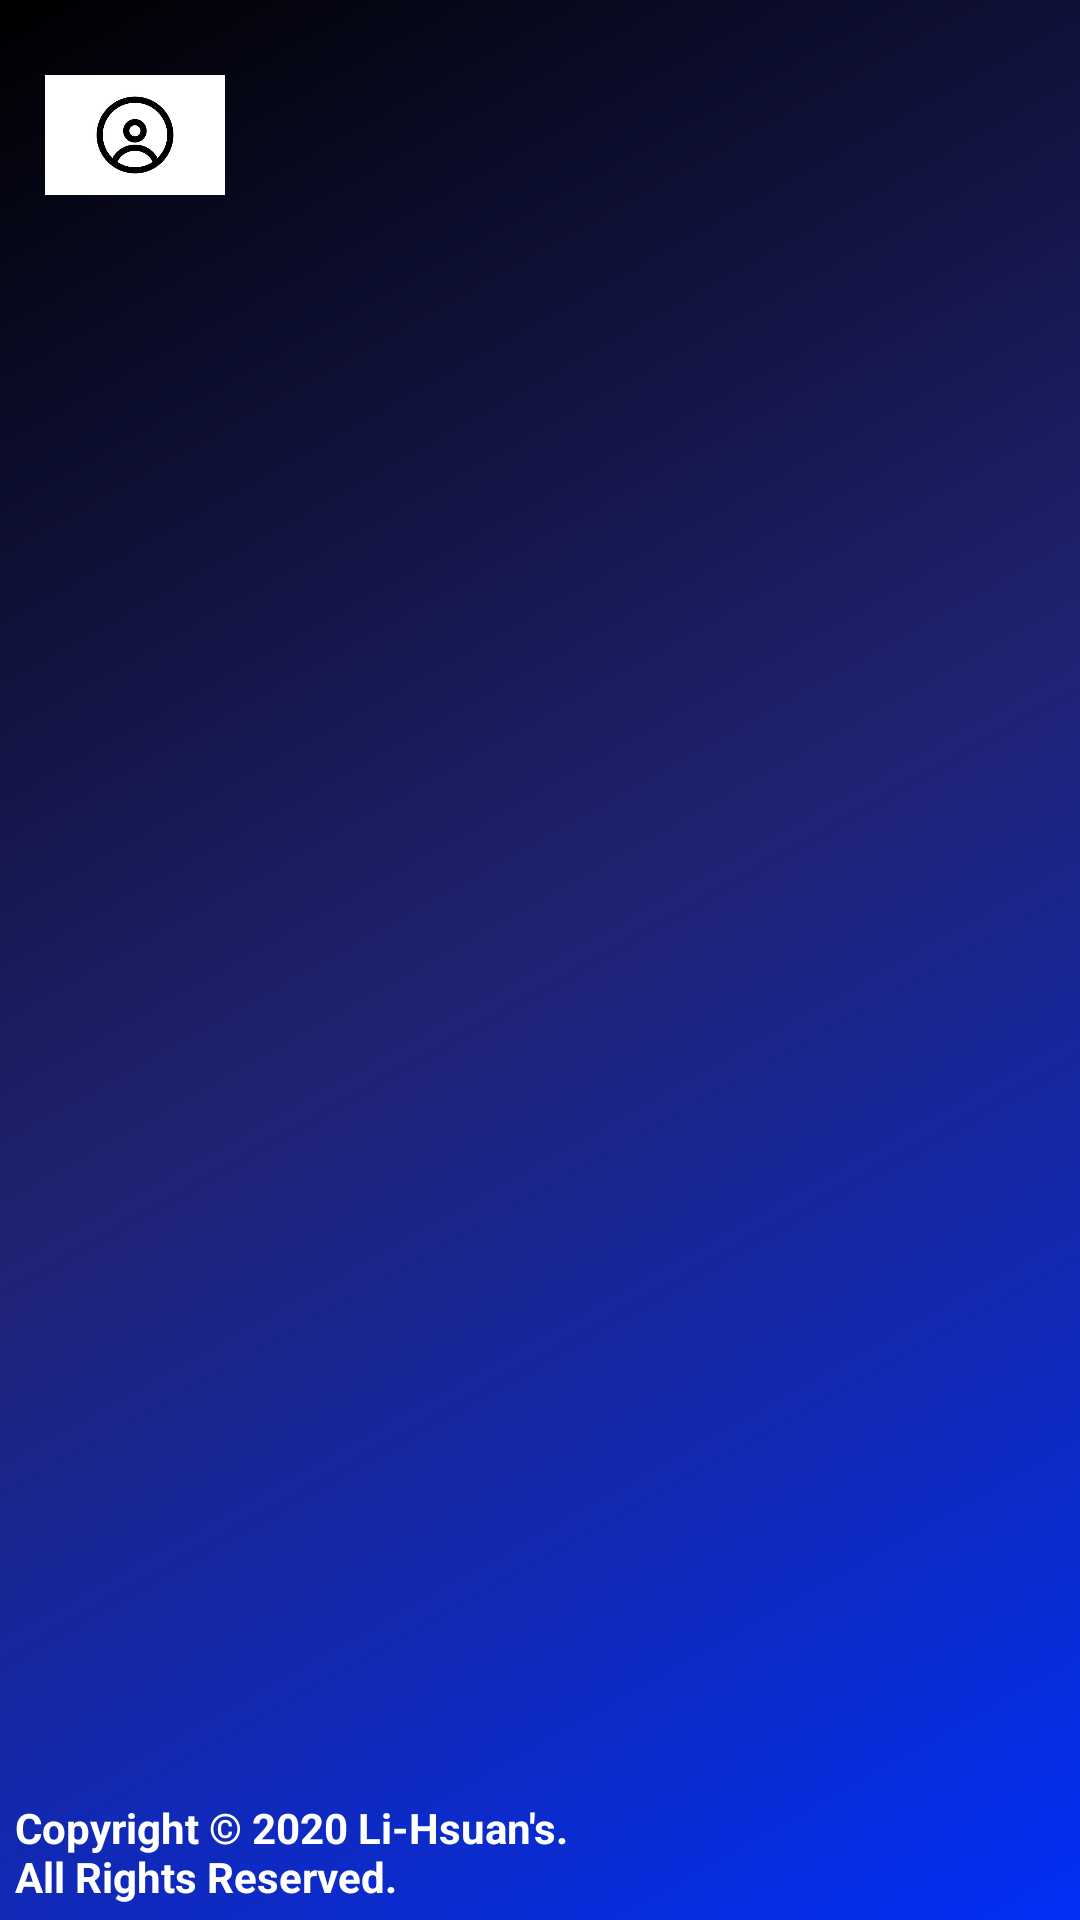

Icons on this 1080×1920 Android screen, each with its box as [x1, y1, x2, y2]:
person: [45, 75, 225, 195]
